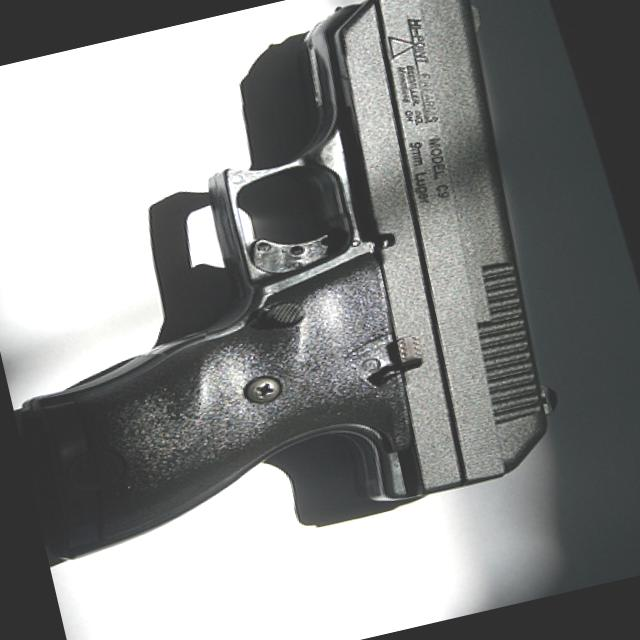handgun: (0, 0, 586, 586)
